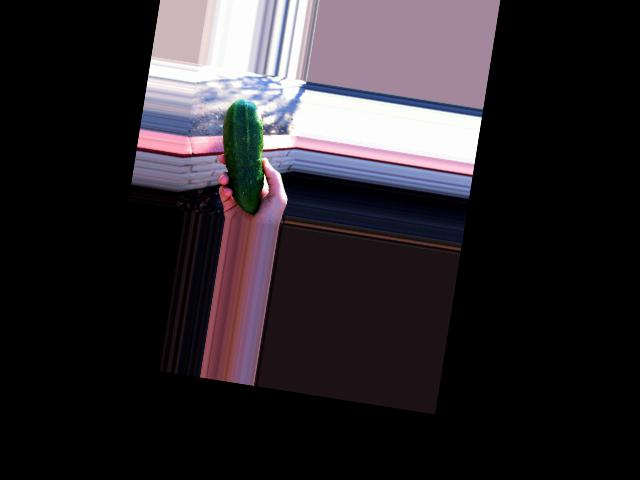cucumber: (209, 97, 275, 214)
